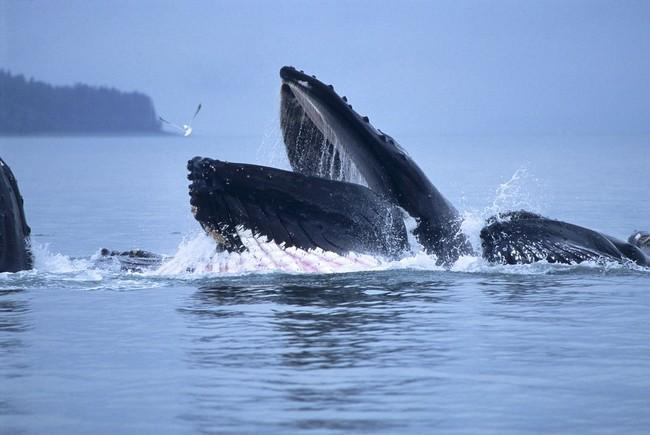bird: (150, 103, 208, 138)
